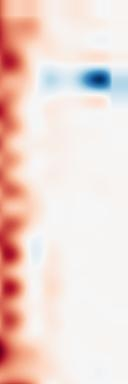filament: (0, 14, 44, 370)
